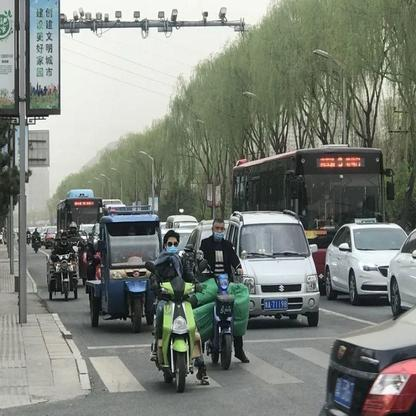target: (143, 231, 211, 392), (193, 219, 250, 370)
